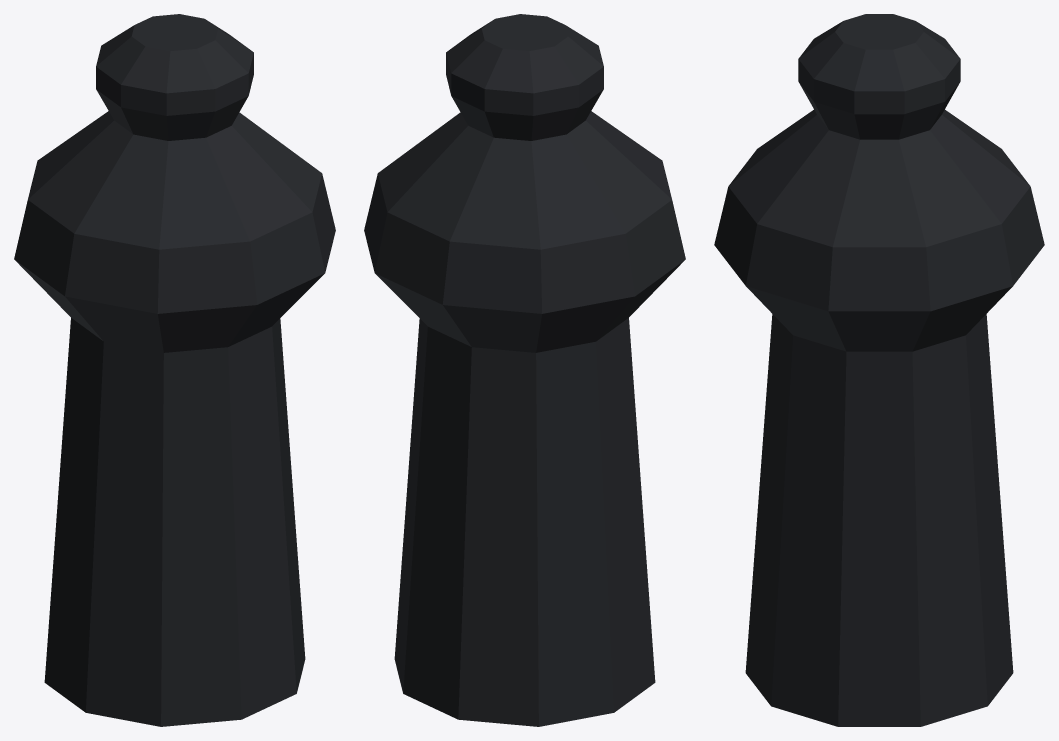
The model's file is Barrier_3.fbx.
3 views of the same model, side by side, from view 1: azimuth 30°, elevation 25°; view 2: azimuth 150°, elevation 25°; view 3: azimuth 270°, elevation 25° (orthographic).
Visible parts, largest first — view 1: Barrier_3; view 2: Barrier_3; view 3: Barrier_3.
Boxes of the visible parts, bbox=[...] form: Barrier_3: bbox=[14, 14, 335, 726]; Barrier_3: bbox=[364, 14, 685, 726]; Barrier_3: bbox=[714, 14, 1044, 726].
Bounding box in the file's own units: 50.81 × 114 × 53.43.
